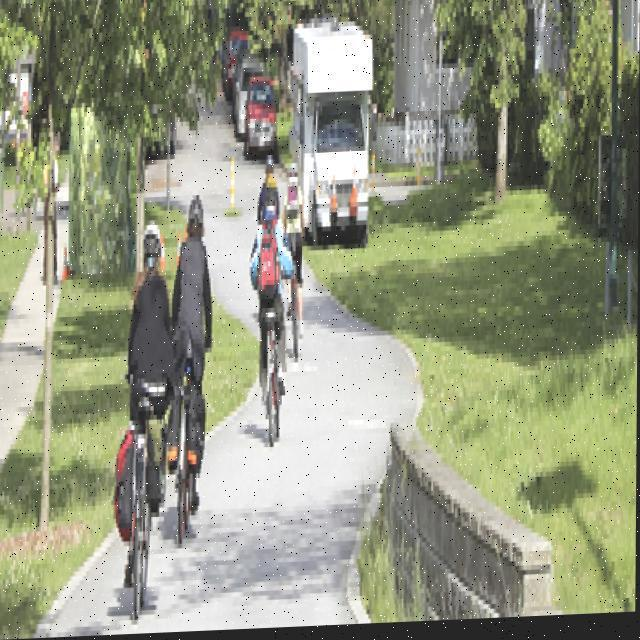Helmet: (139, 212, 165, 282), (184, 183, 208, 244), (262, 171, 280, 218)
